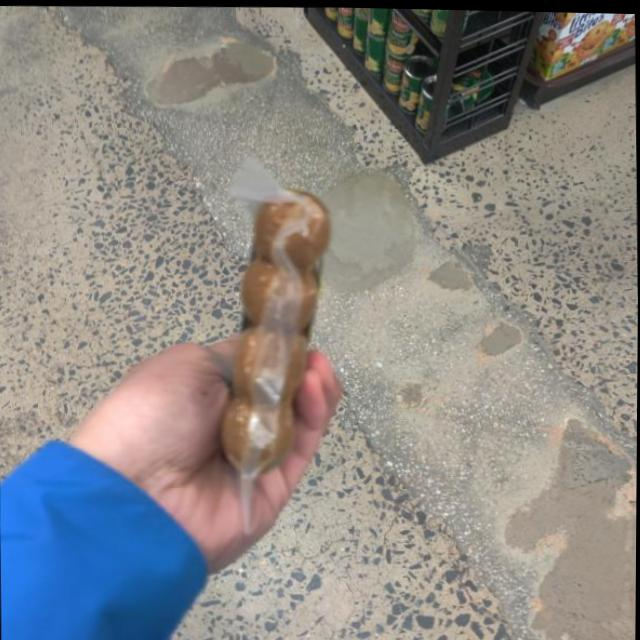Meat: (227, 153, 333, 485)
